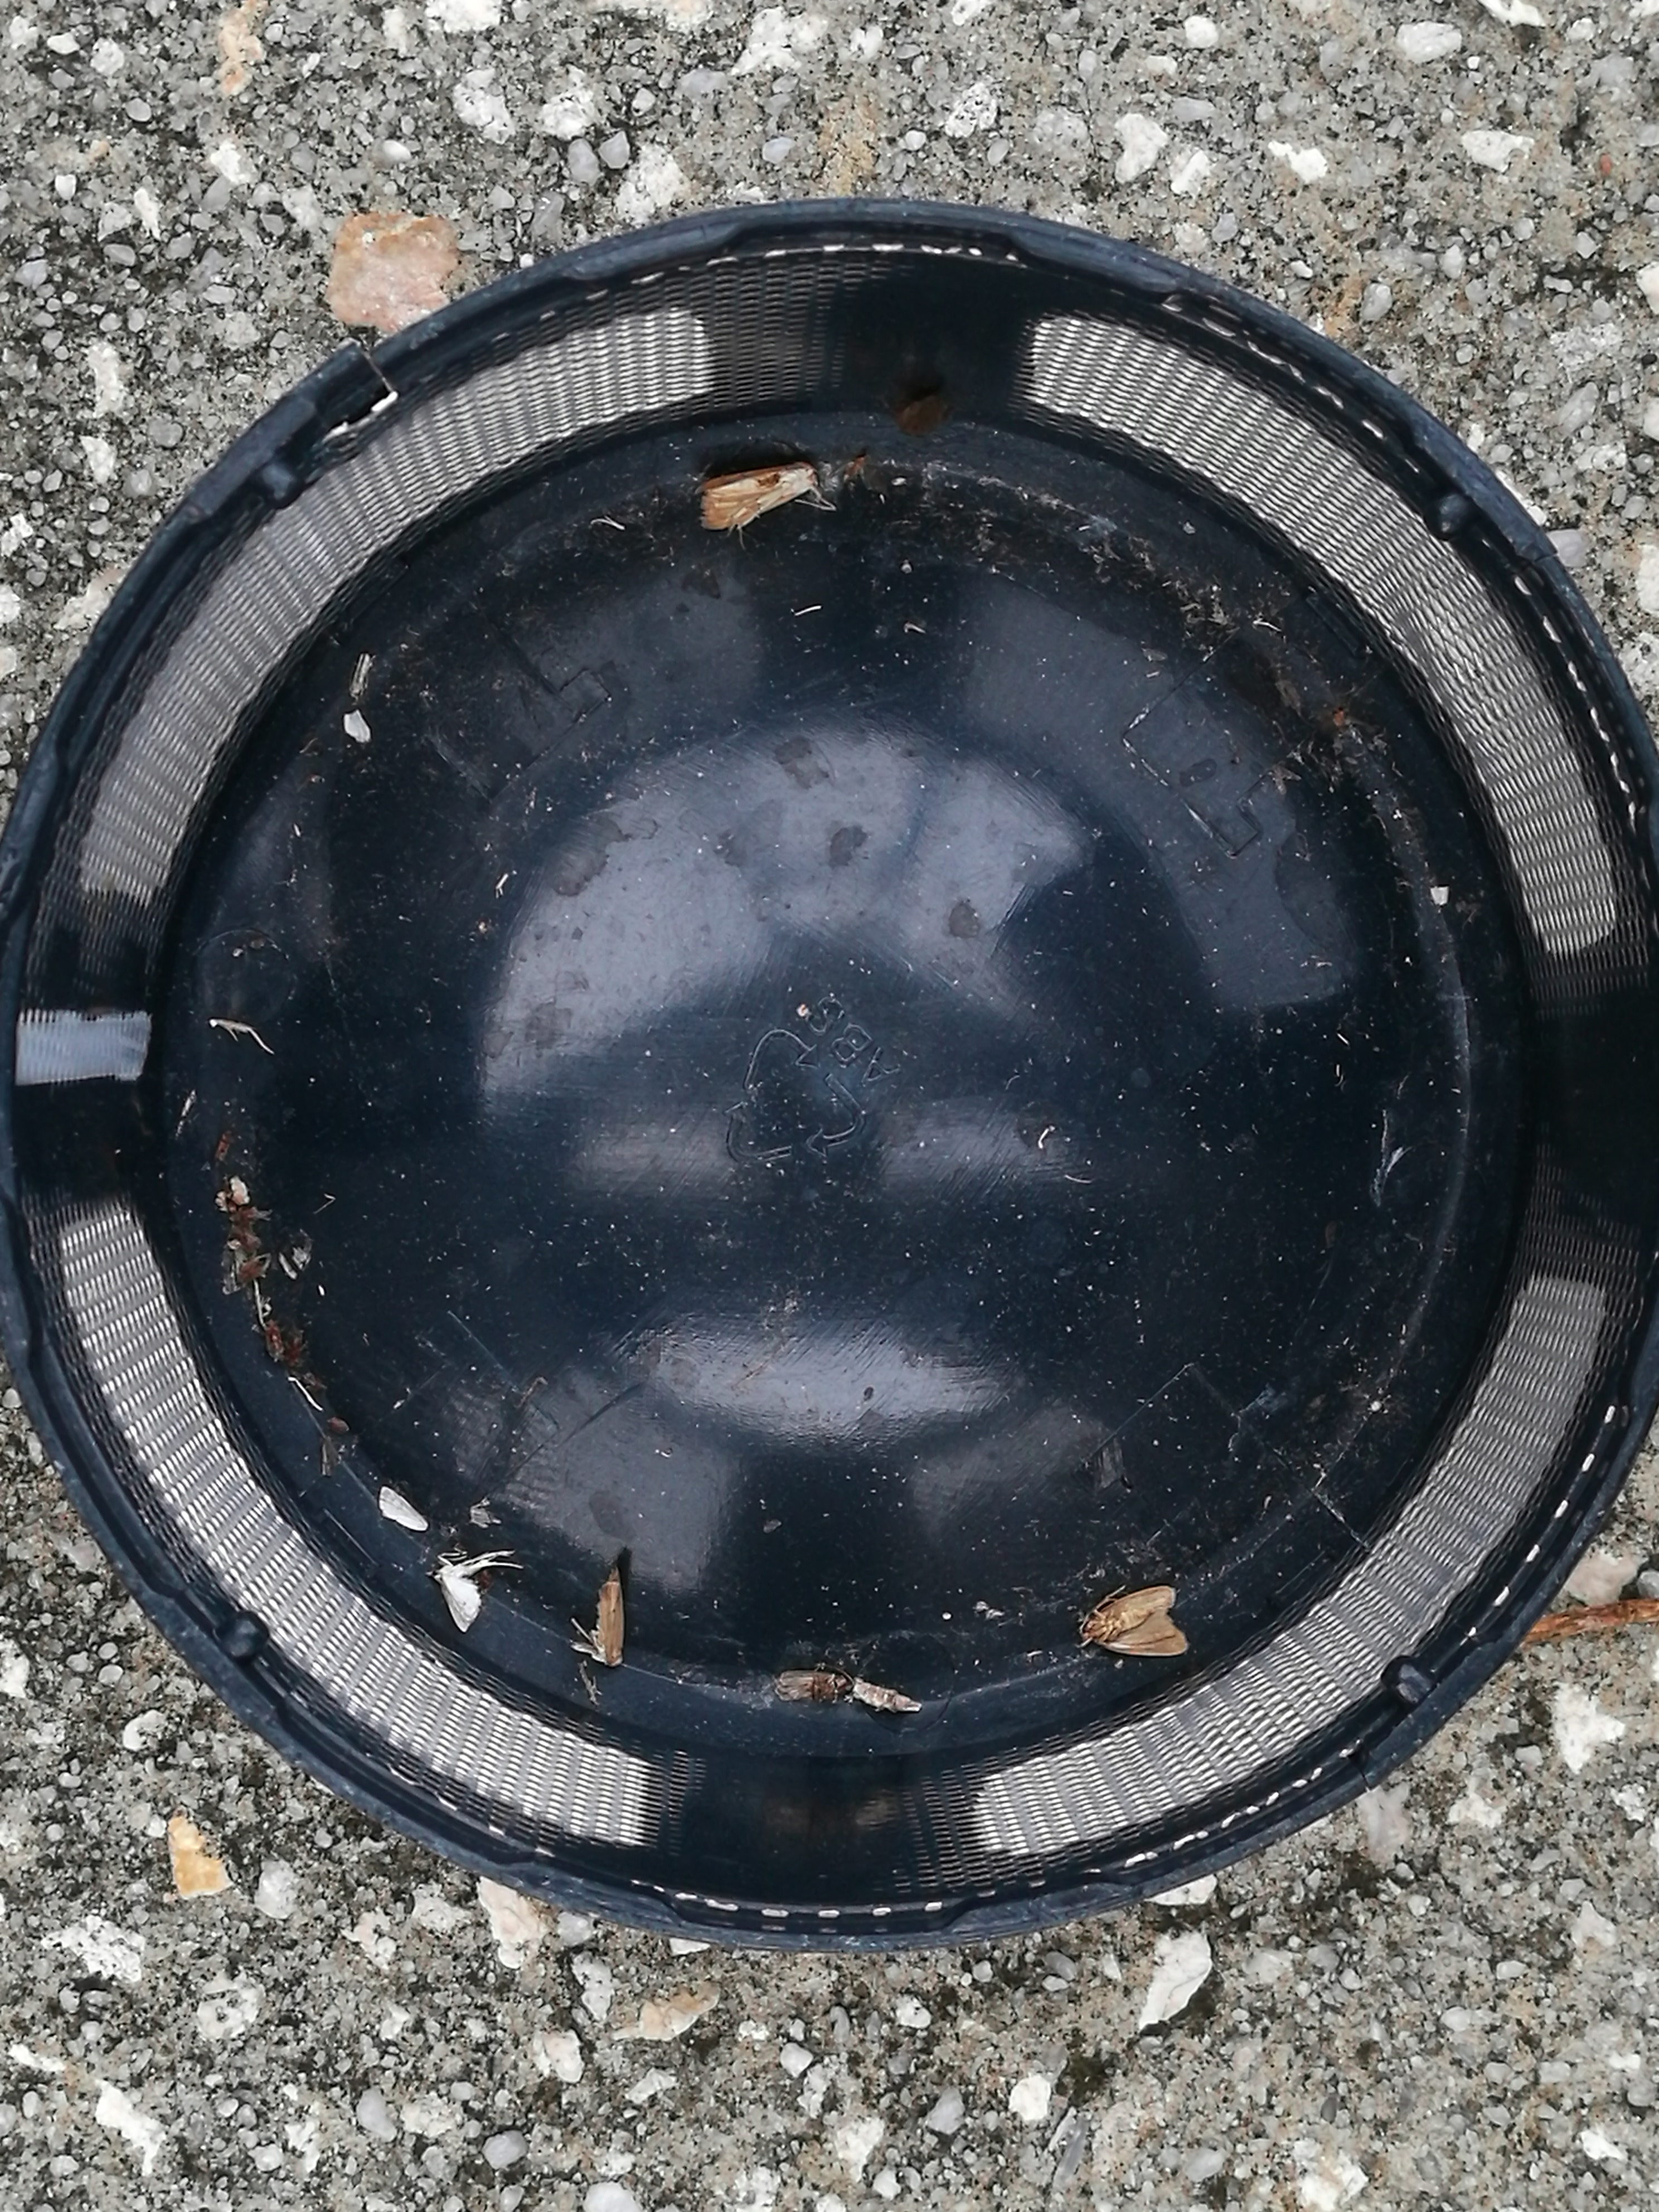mosquito: (699, 463, 819, 531), (592, 1568, 624, 1667), (775, 1672, 849, 1700)
moth: (1079, 1587, 1185, 1656), (434, 1561, 479, 1632)
